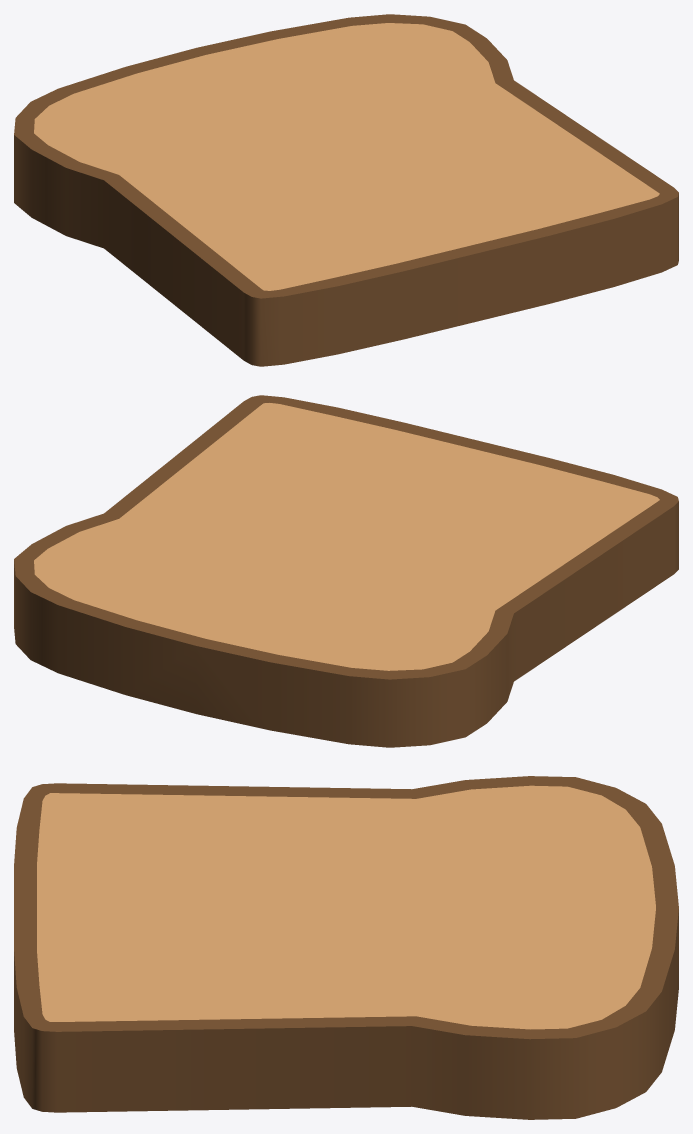
The model's file is jampre_toast_model.fbx.
The picture shows the model from 3 angles, top to bottom: view 1: azimuth 30°, elevation 25°; view 2: azimuth 150°, elevation 25°; view 3: azimuth 270°, elevation 25°; orthographic projection. The views are drawn at different scales.
Visible parts, largest first — view 1: Cube; view 2: Cube; view 3: Cube.
Part boxes in pixels (x1=…): Cube: x1=14, y1=14, x2=678, y2=366; Cube: x1=14, y1=395, x2=678, y2=747; Cube: x1=14, y1=776, x2=678, y2=1119.
Bounding box in the file's own units: 10.19 × 1.46 × 10.88.
